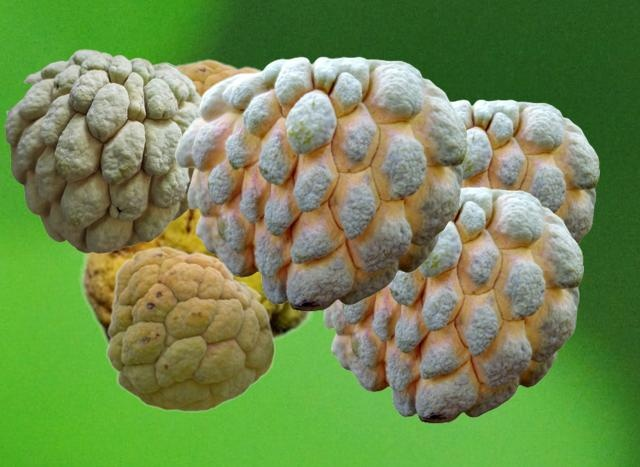atis: (175, 56, 466, 310), (321, 186, 582, 422), (4, 49, 200, 252), (78, 209, 318, 350), (105, 245, 274, 411), (451, 99, 598, 242), (175, 58, 262, 94)
